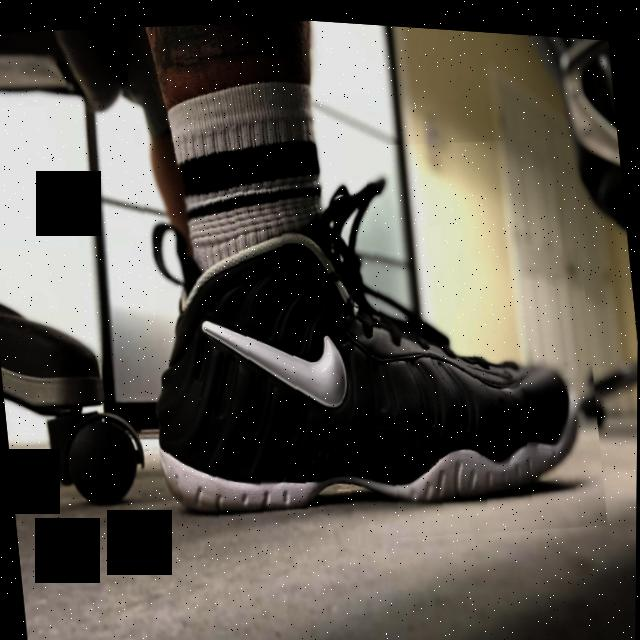shoe: (114, 106, 611, 574)
